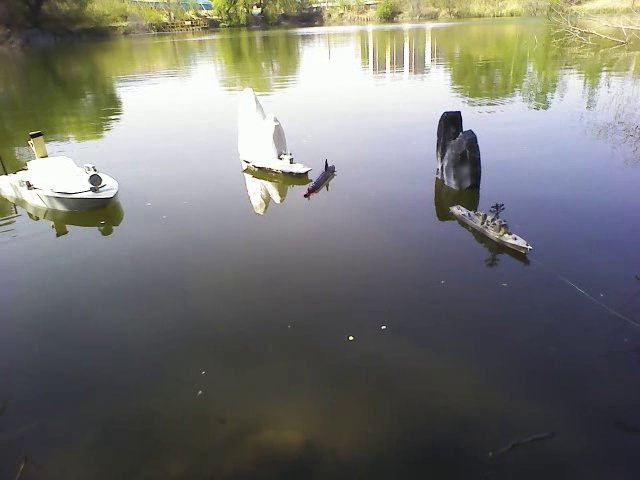aircraft_carrier: (246, 154, 316, 182)
boat: (2, 149, 122, 214)
iceberg: (234, 85, 294, 158)
rock: (433, 110, 489, 193)
submarine: (302, 160, 341, 199)
warship: (448, 200, 542, 254)
